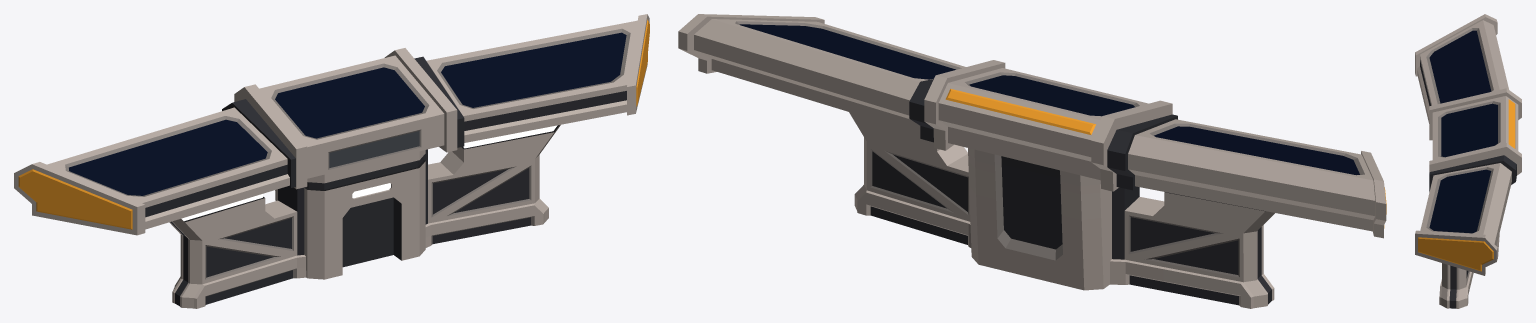
File: SM_Lab_Computer.glb
The picture shows the model from 3 angles, left to right: view 1: azimuth 30°, elevation 25°; view 2: azimuth 150°, elevation 25°; view 3: azimuth 270°, elevation 25°; orthographic projection. The views are drawn at different scales.
Parts seen in each view (by area): view 1: SM_Lab_Computer; view 2: SM_Lab_Computer; view 3: SM_Lab_Computer.
Part boxes in pixels (box(x1,y1,x2,y2)): SM_Lab_Computer: box(14, 14, 649, 308); SM_Lab_Computer: box(678, 14, 1386, 308); SM_Lab_Computer: box(1415, 14, 1521, 308).
Size of the model in its own units: 3.78 by 0.9445 by 0.7367.
Materials: 2 (1 with a texture image).
